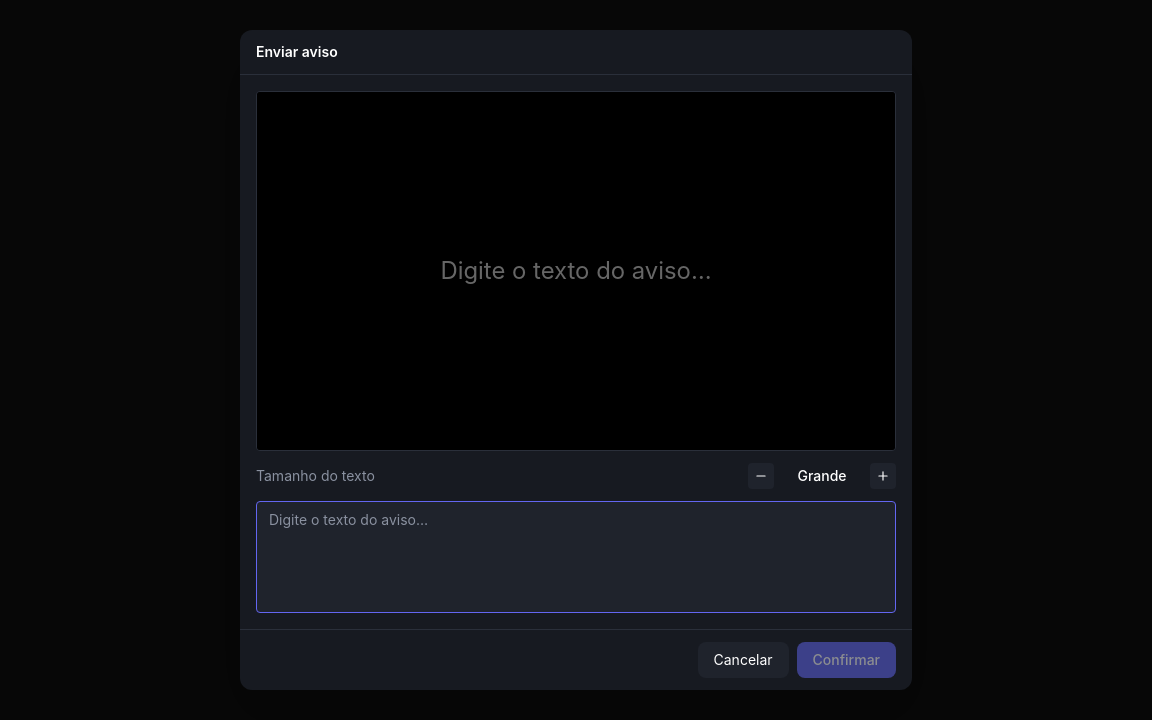
AnnouncementDialog › previews the typed text as the wall renders it (P19-05, P19-06)
Type "  Culto às 19h  " into the text box with placeholder "Digite o texto do aviso…". click: (576, 557)
box: x1=256 y1=501 x2=896 y2=613
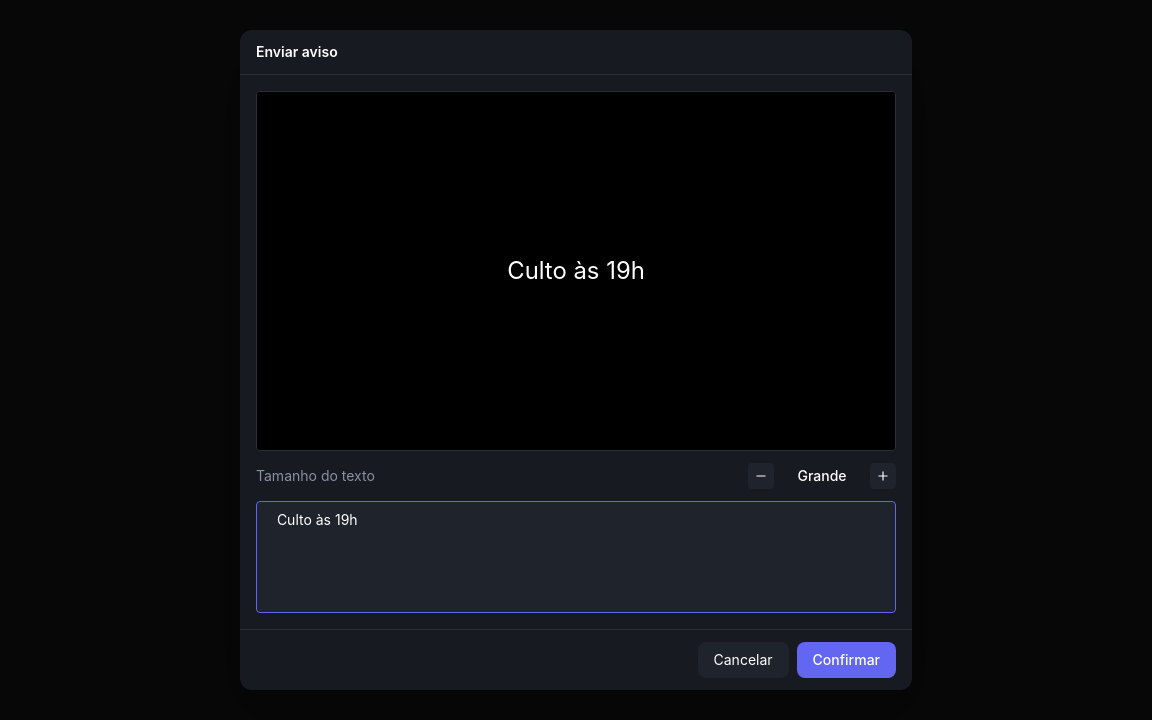
Check: the text "Culto às 19h" is shown, box x1=507 y1=254 x2=645 y2=288
